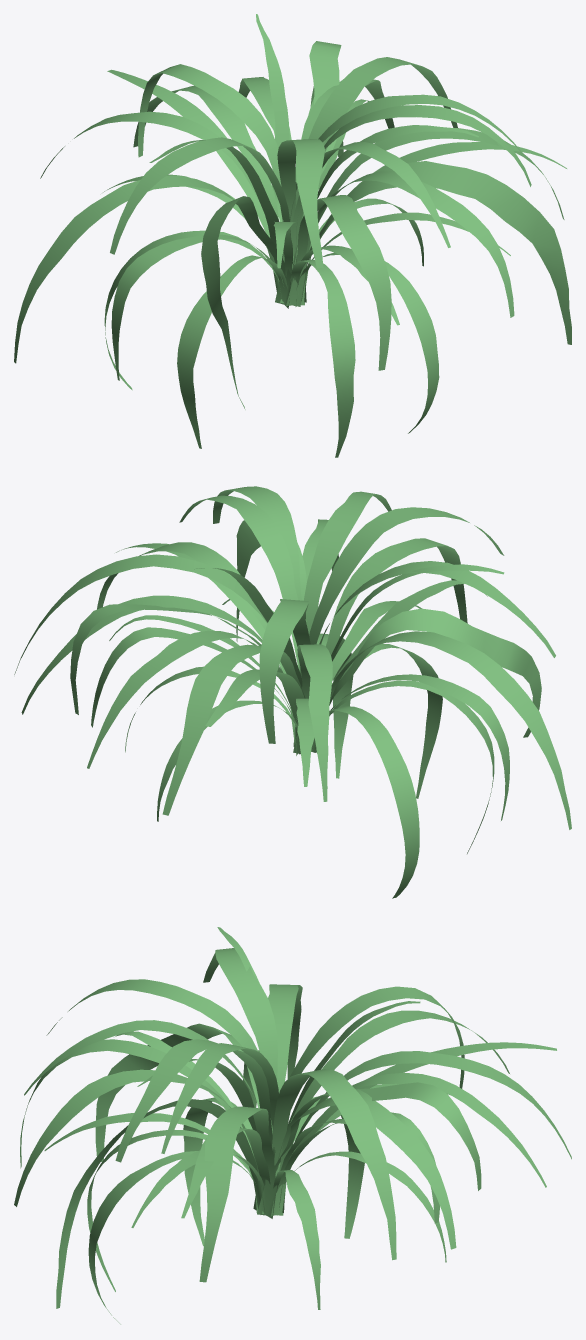
The model's file is SM_Chlorophytum_01.glb.
3 views of the same model, one above another, from view 1: azimuth 30°, elevation 25°; view 2: azimuth 150°, elevation 25°; view 3: azimuth 270°, elevation 25° (orthographic). The views are drawn at different scales.
Parts seen in each view (by area): view 1: SM_Chlorophytum_01; view 2: SM_Chlorophytum_01; view 3: SM_Chlorophytum_01.
Boxes of the visible parts, x1,y1,x2,y2 form: SM_Chlorophytum_01: [14, 14, 571, 457]; SM_Chlorophytum_01: [14, 486, 571, 898]; SM_Chlorophytum_01: [14, 927, 571, 1324].
Size of what is drawn, in the model's own units: 21.12 by 12.66 by 19.73.
